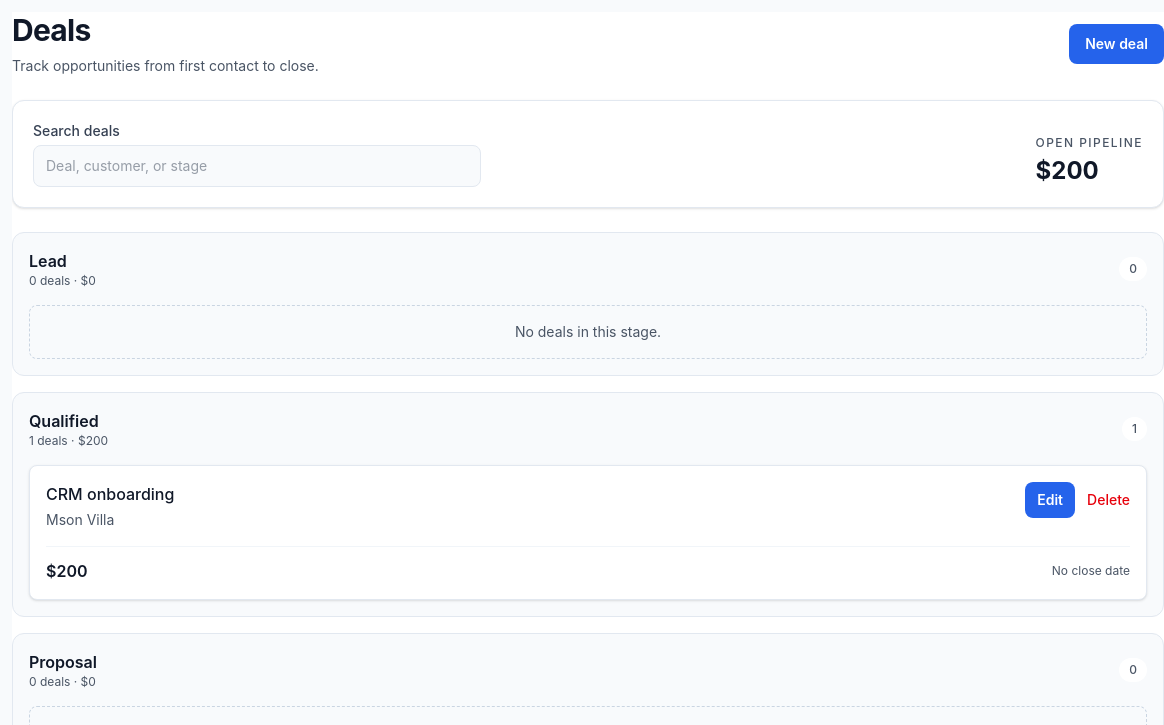
CRM list pages › shows deals in their pipeline stage and deletes after confirmation
The width and height of the screenshot is (1164, 725).
Check: the heading "CRM onboarding" is shown, box [46, 482, 174, 506]
Click the button "Delete".
click(1109, 500)  # box [1087, 490, 1130, 510]
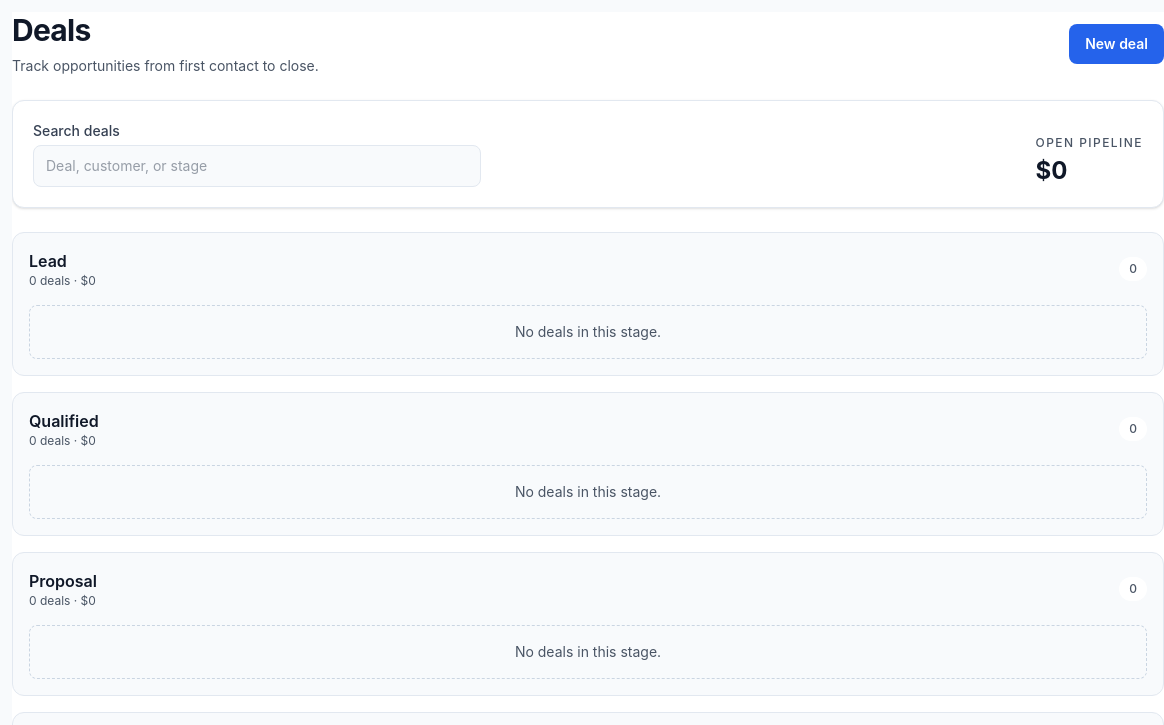
Check: the heading "CRM onboarding" is gone
